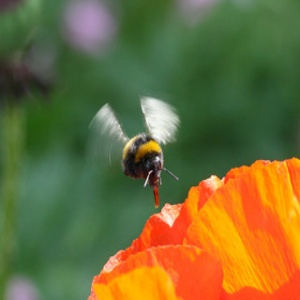bee: (82, 95, 204, 215)
